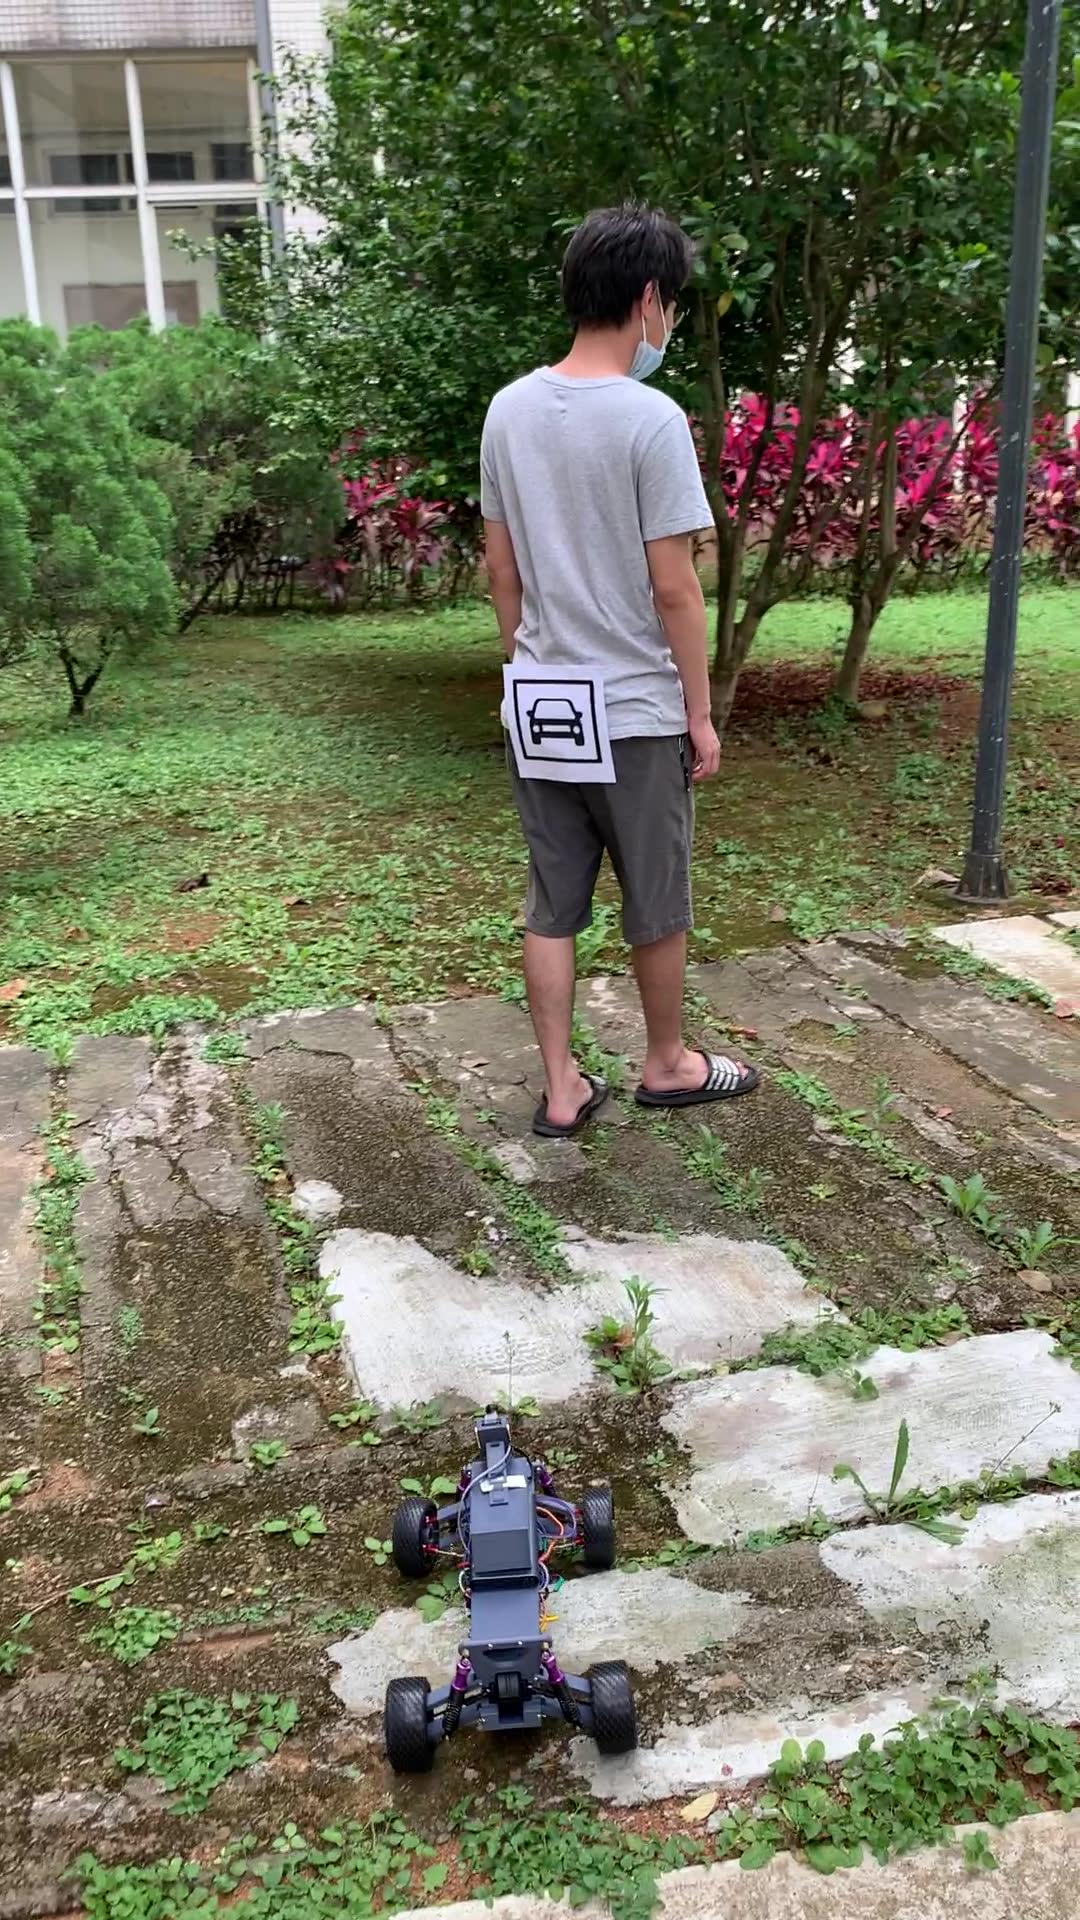car_img: (513, 678, 604, 764)
